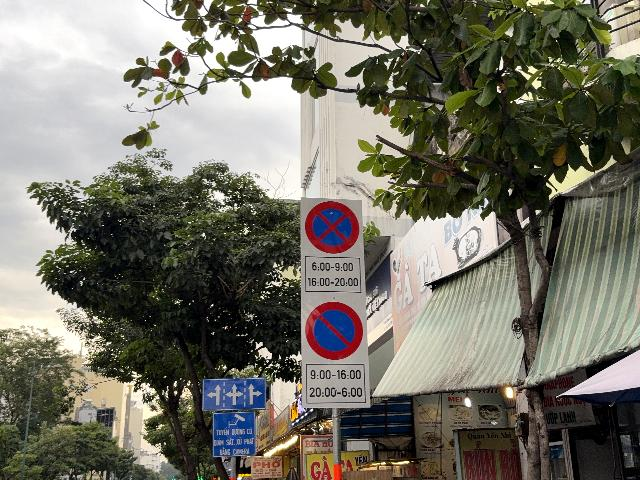cam-do-xe: (305, 301, 362, 360)
cam-dung-va-do-xe: (304, 201, 360, 255)
